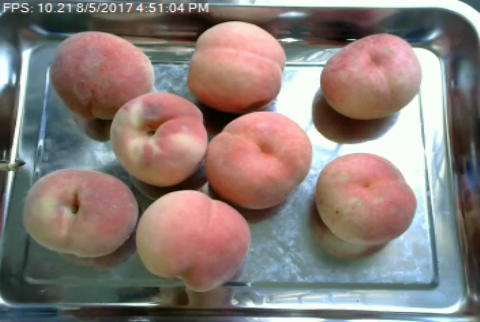Peach: (135, 189, 247, 290), (310, 152, 417, 253), (24, 168, 137, 258), (206, 111, 308, 210), (107, 90, 210, 187), (315, 32, 421, 123), (51, 29, 154, 121), (187, 20, 285, 113)
